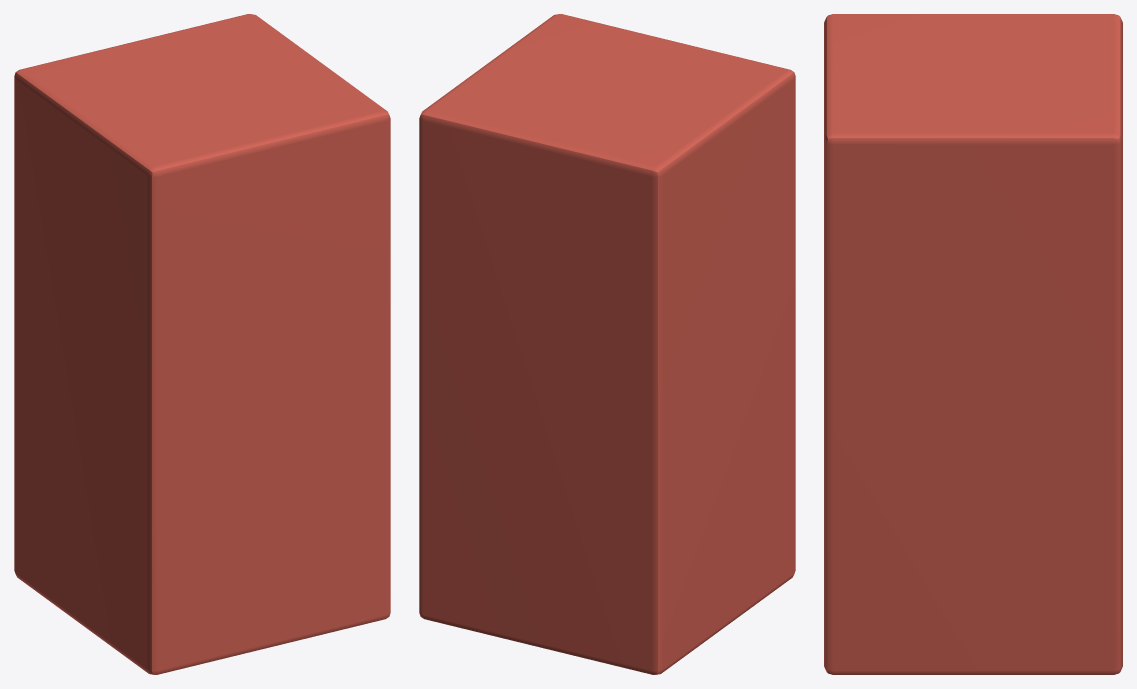
3 renders of one model, left to right at view 1: azimuth 30°, elevation 25°; view 2: azimuth 150°, elevation 25°; view 3: azimuth 270°, elevation 25°, orthographic. The views are drawn at different scales.
Visible parts, largest first — view 1: Rectangle; view 2: Rectangle; view 3: Rectangle.
Part boxes in pixels (x1,y1,x2,y2): Rectangle: [14, 14, 390, 674]; Rectangle: [419, 14, 795, 674]; Rectangle: [824, 14, 1122, 674].
Size of the model in its own units: 50 by 100 by 50.
